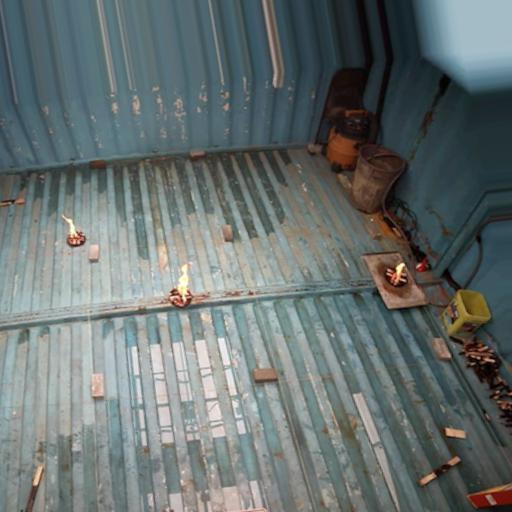Fire: (176, 263, 189, 299), (60, 213, 78, 237), (395, 261, 406, 277)
